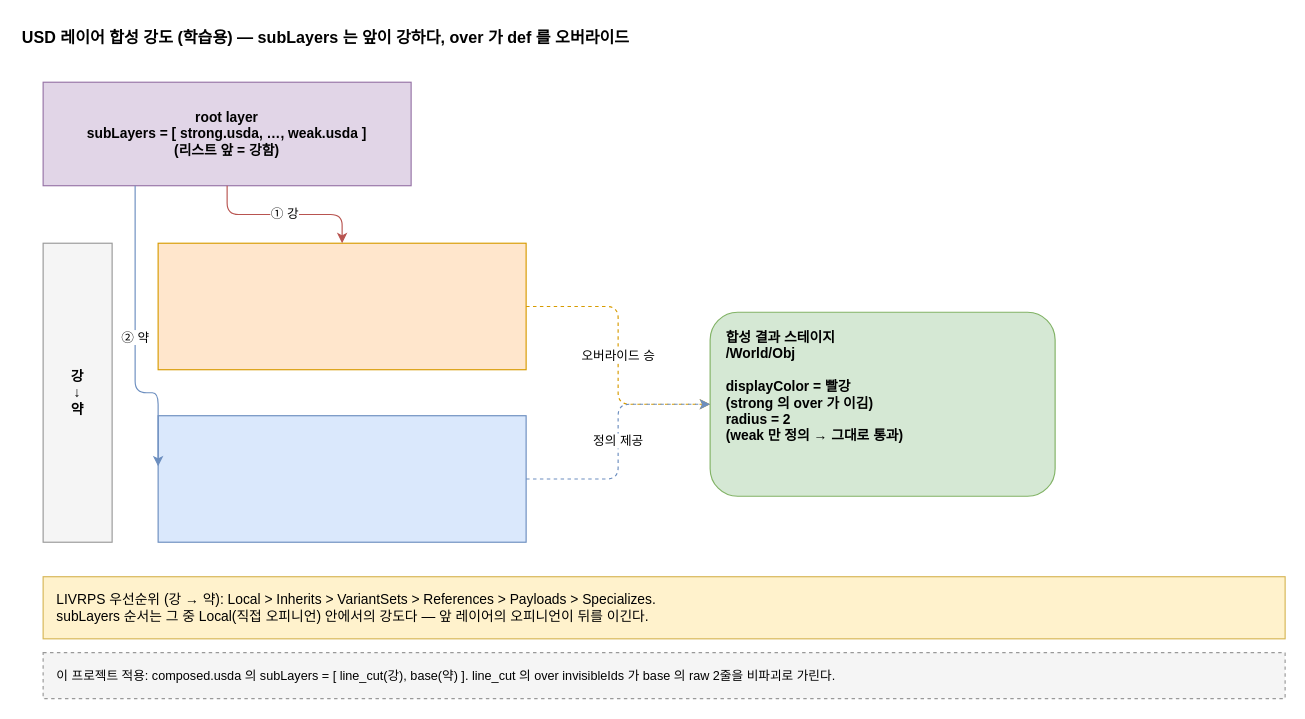
Image size: 1305x719. Some labels were removed from this diagram. Each missing label, with the box of its shape:
strong.usda (앞 → 강함) over /World/Obj { displayColor = 빨강 }: (157, 242, 526, 370)
weak.usda (뒤 → 약함) def /World/Obj { displayColor = 초록 radius = 2 }: (157, 415, 526, 542)
